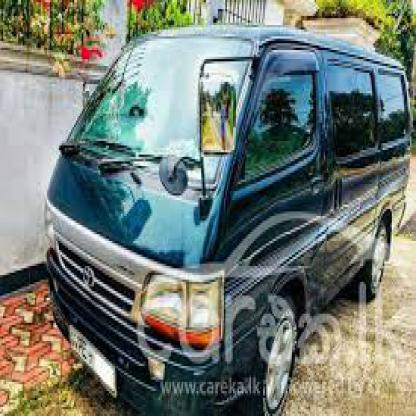van: (42, 27, 414, 414)
